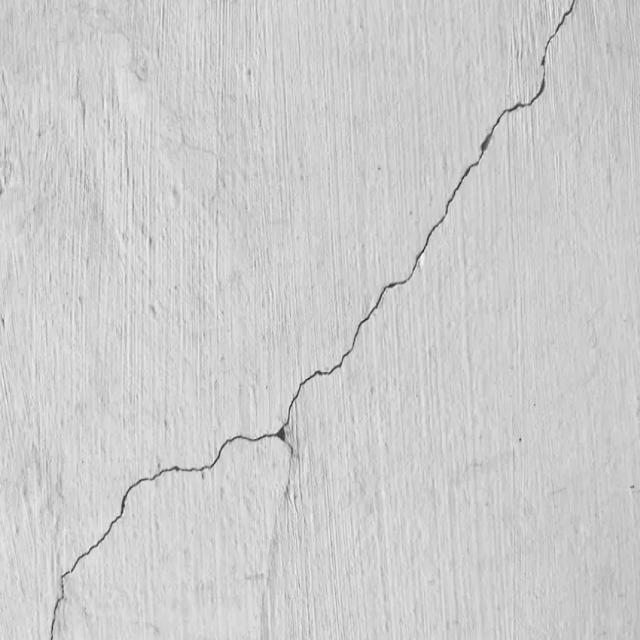Rachadura: (43, 0, 581, 639)
